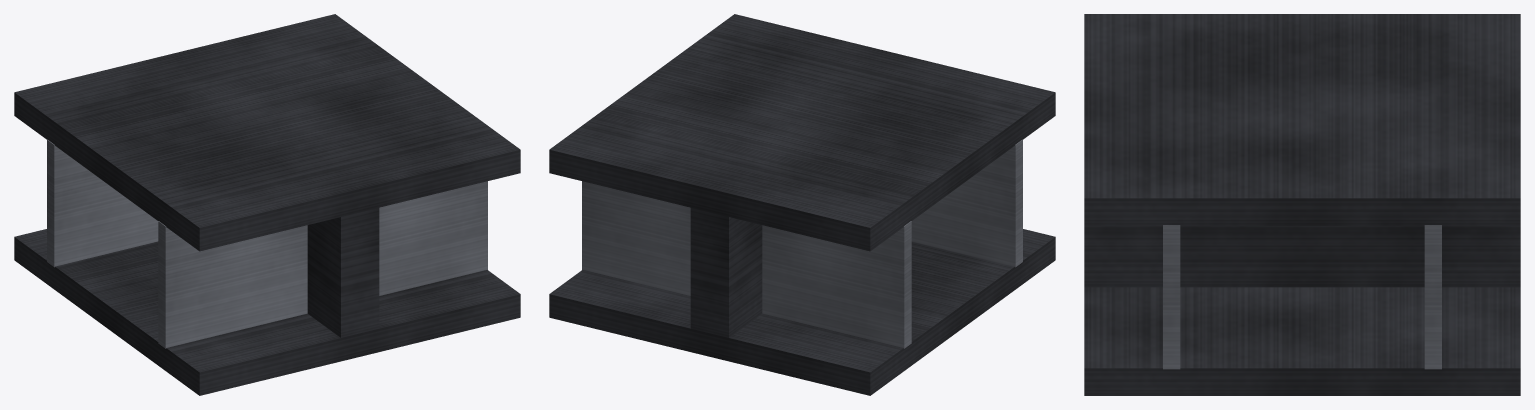
The model's file is Beam.fbx.
The picture shows the model from 3 angles, left to right: view 1: azimuth 30°, elevation 25°; view 2: azimuth 150°, elevation 25°; view 3: azimuth 270°, elevation 25°; orthographic projection. The views are drawn at different scales.
Parts seen in each view (by area): view 1: Beam; view 2: Beam; view 3: Beam.
Part boxes in pixels (x1,y1,x2,y2): Beam: (14, 14, 520, 395); Beam: (549, 14, 1055, 395); Beam: (1084, 14, 1520, 395).
Size of the model in its own units: 1 by 0.5 by 1.
2 materials, 2 textured.
